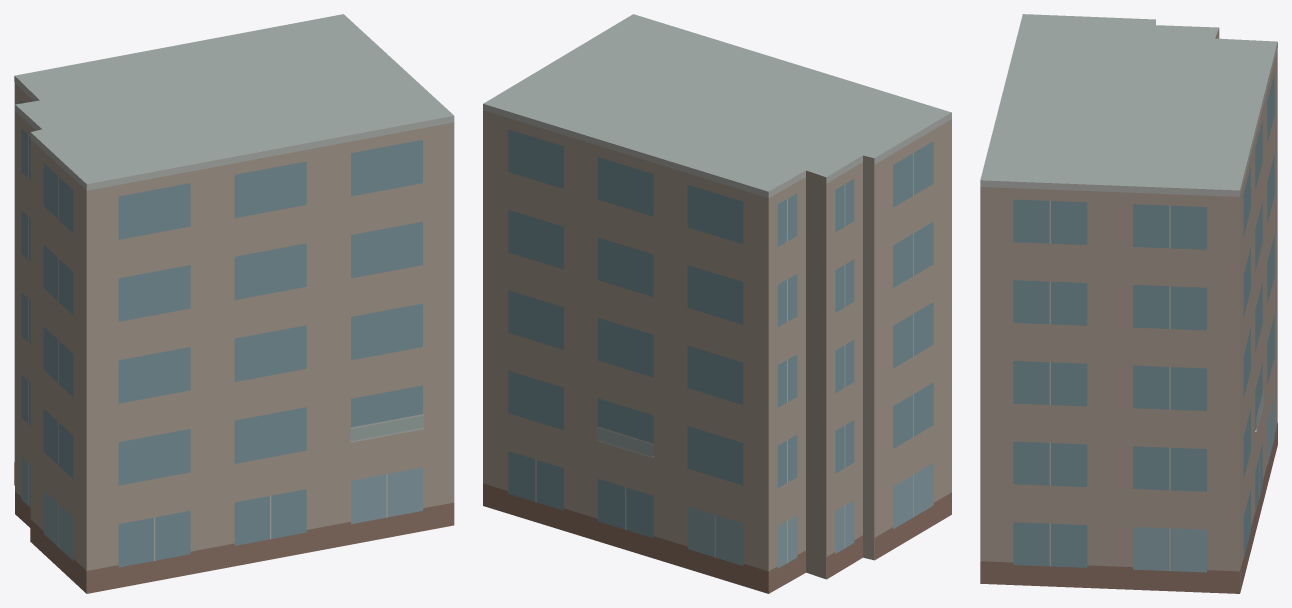
Rendered from survey-upis-32872079.glb.
3 renders of one model, left to right at view 1: azimuth 30°, elevation 25°; view 2: azimuth 150°, elevation 25°; view 3: azimuth 270°, elevation 25°, orthographic.
Parts seen in each view (by area): view 1: survey-upis-32872079.tmp; view 2: survey-upis-32872079.tmp; view 3: survey-upis-32872079.tmp.
Boxes of the visible parts, x1,y1,x2,y2 form: survey-upis-32872079.tmp: (14,14,454,593); survey-upis-32872079.tmp: (483,14,951,593); survey-upis-32872079.tmp: (980,14,1277,593).
Size of the model in its own units: 14.22 by 15.15 by 10.14.
